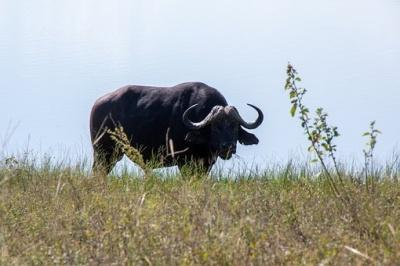buffalo: (90, 82, 263, 170)
